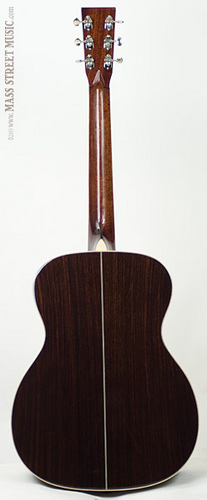guitar: (9, 7, 200, 493)
